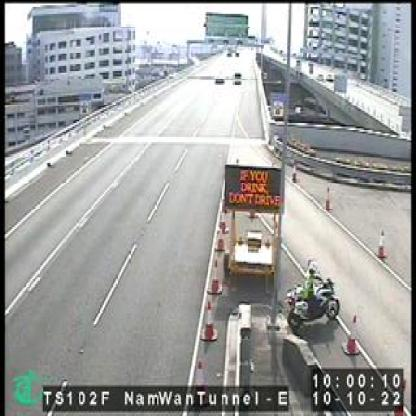Car: (232, 69, 244, 85)
